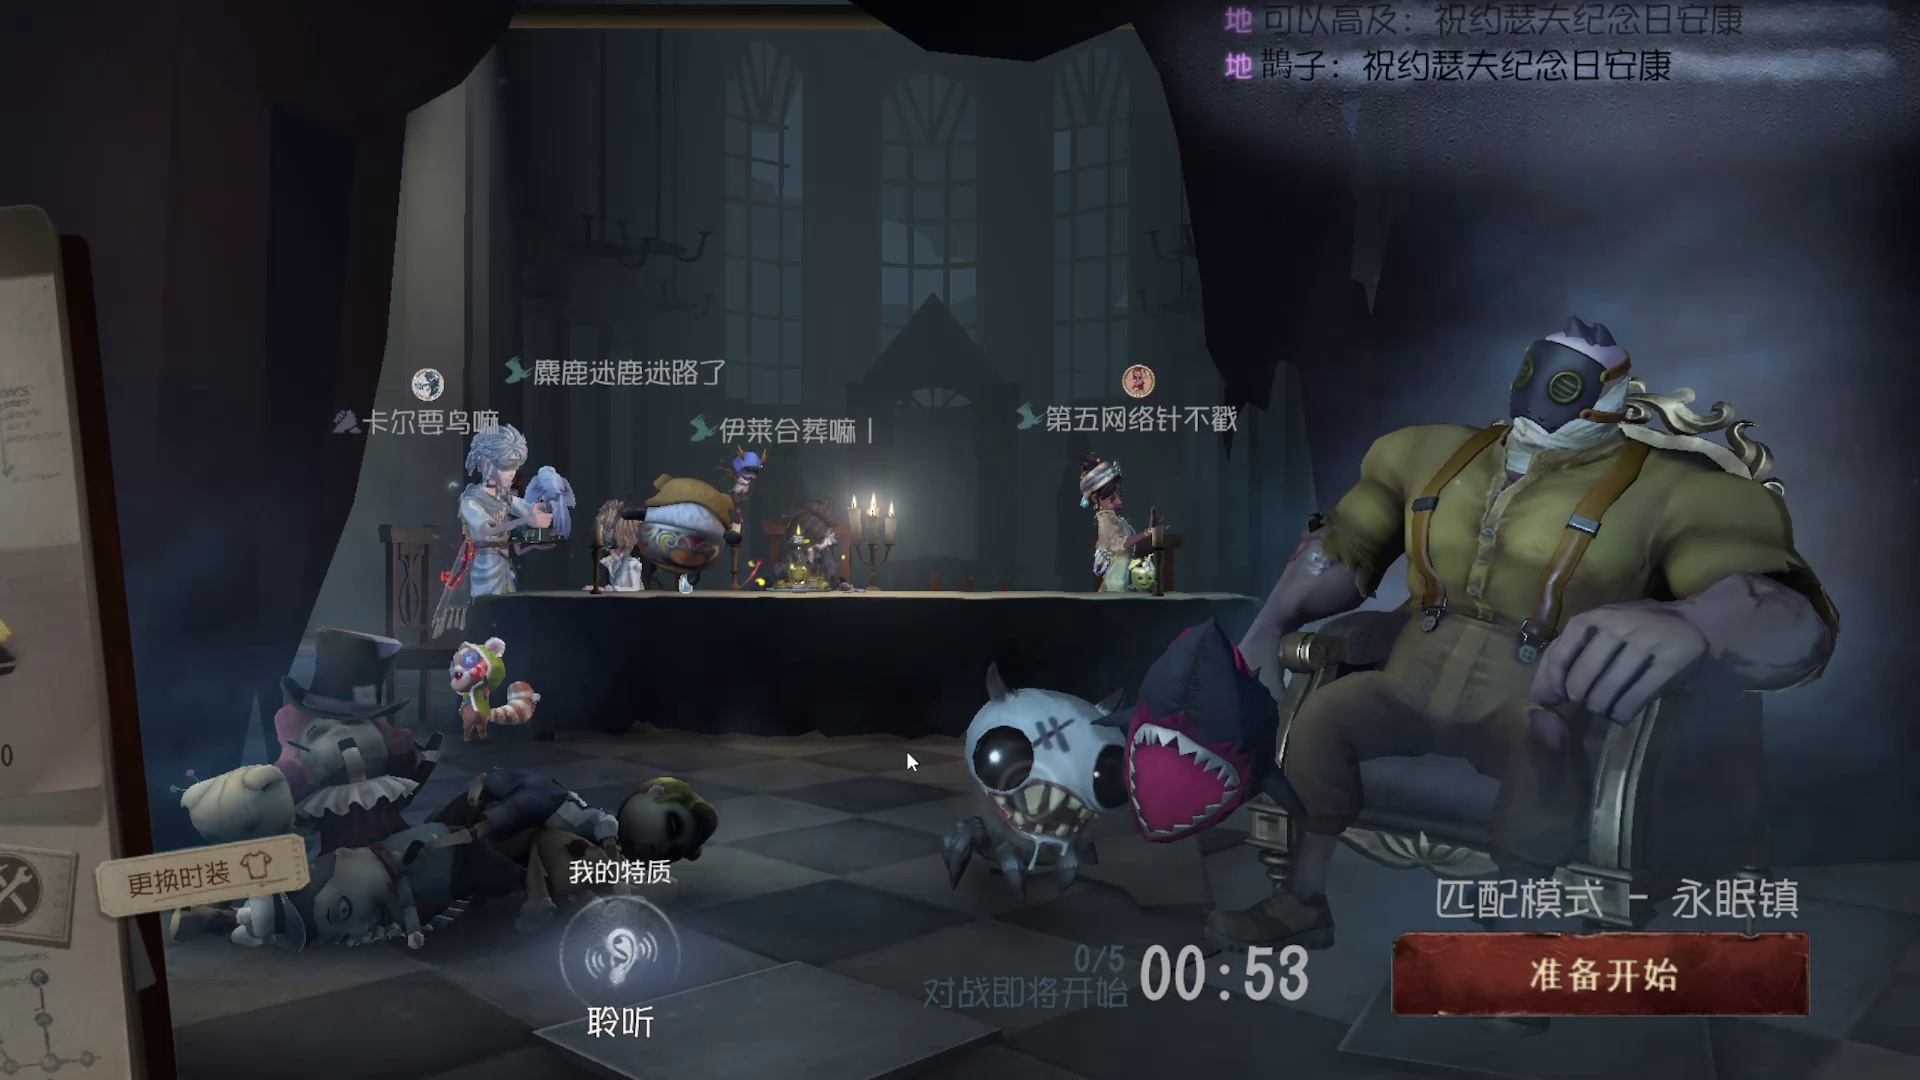准备开始: (1357, 895, 1851, 1044)
